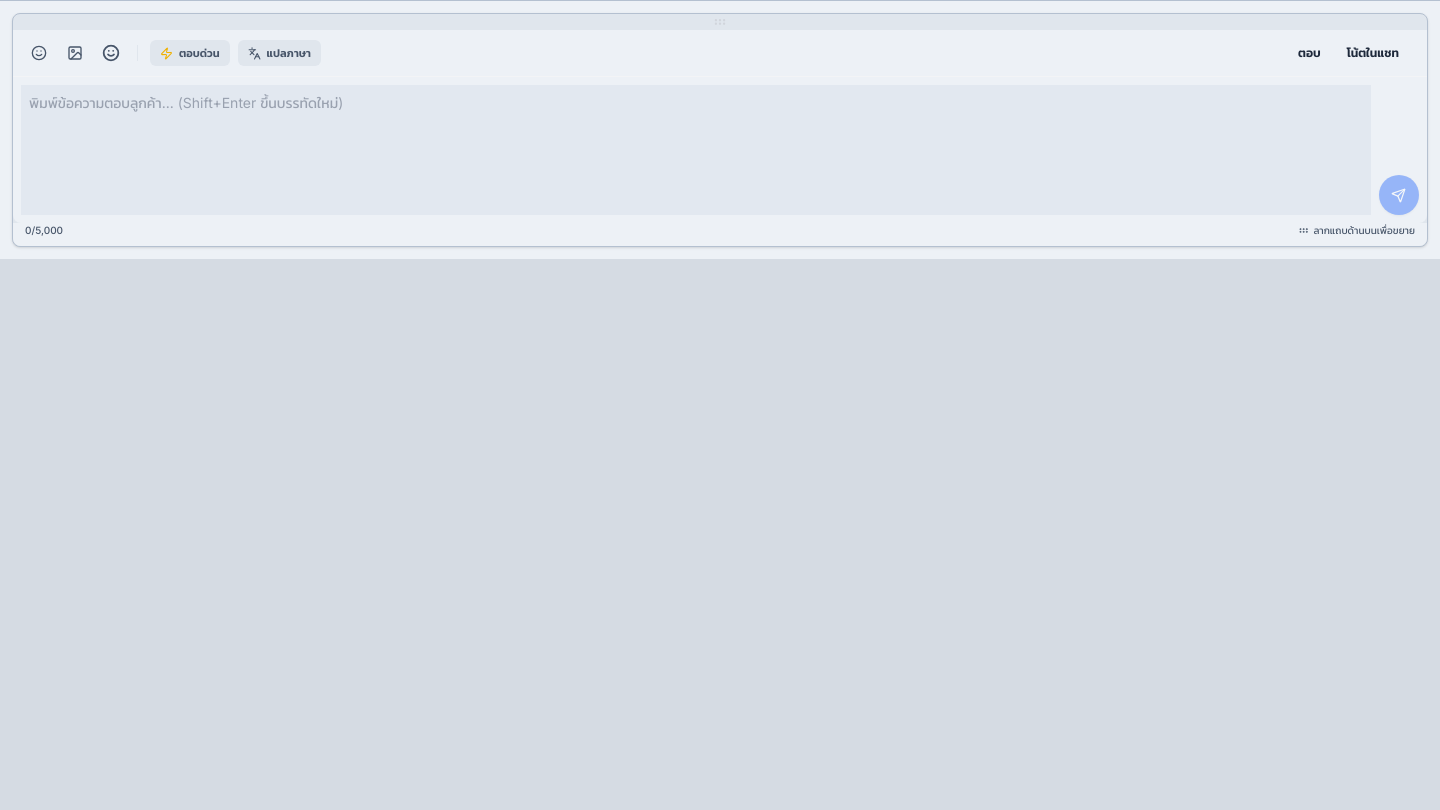
Test: [FEAT-20260918-AUTOSENDCONFIRM] the switch is ON — the first press asks › 🔴 one confirm buys ONE send — the next press asks again
Type "first" into the text box with placeholder "พิมพ์ข้อความตอบลูกค้า... (Shift+Enter ขึ้นบรรทัดใหม่)". click: (696, 150)
box: [21,85,1371,215]
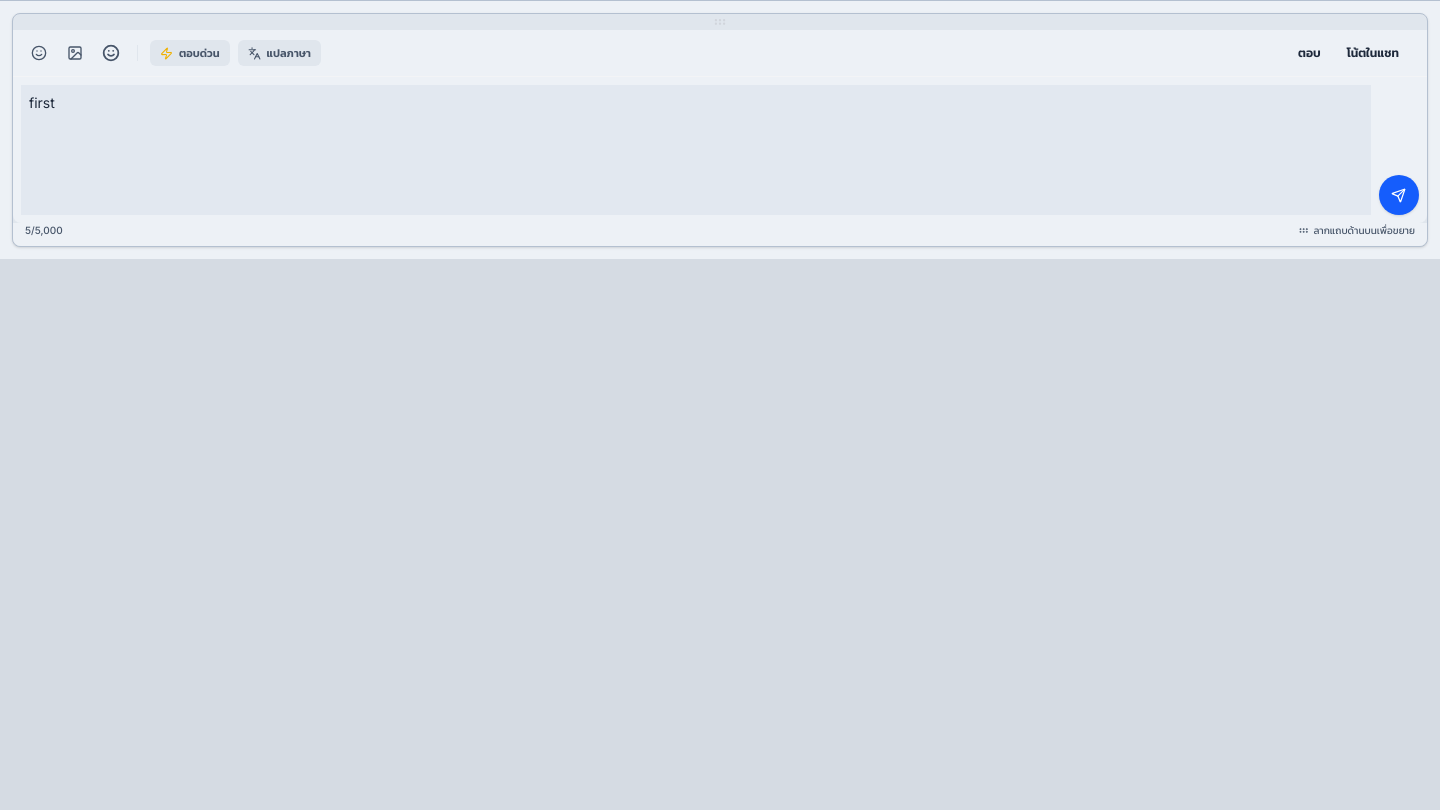
Click the button titled "ส่งถึงลูกค้า". click: (1399, 195)
box: [1379,175,1419,215]
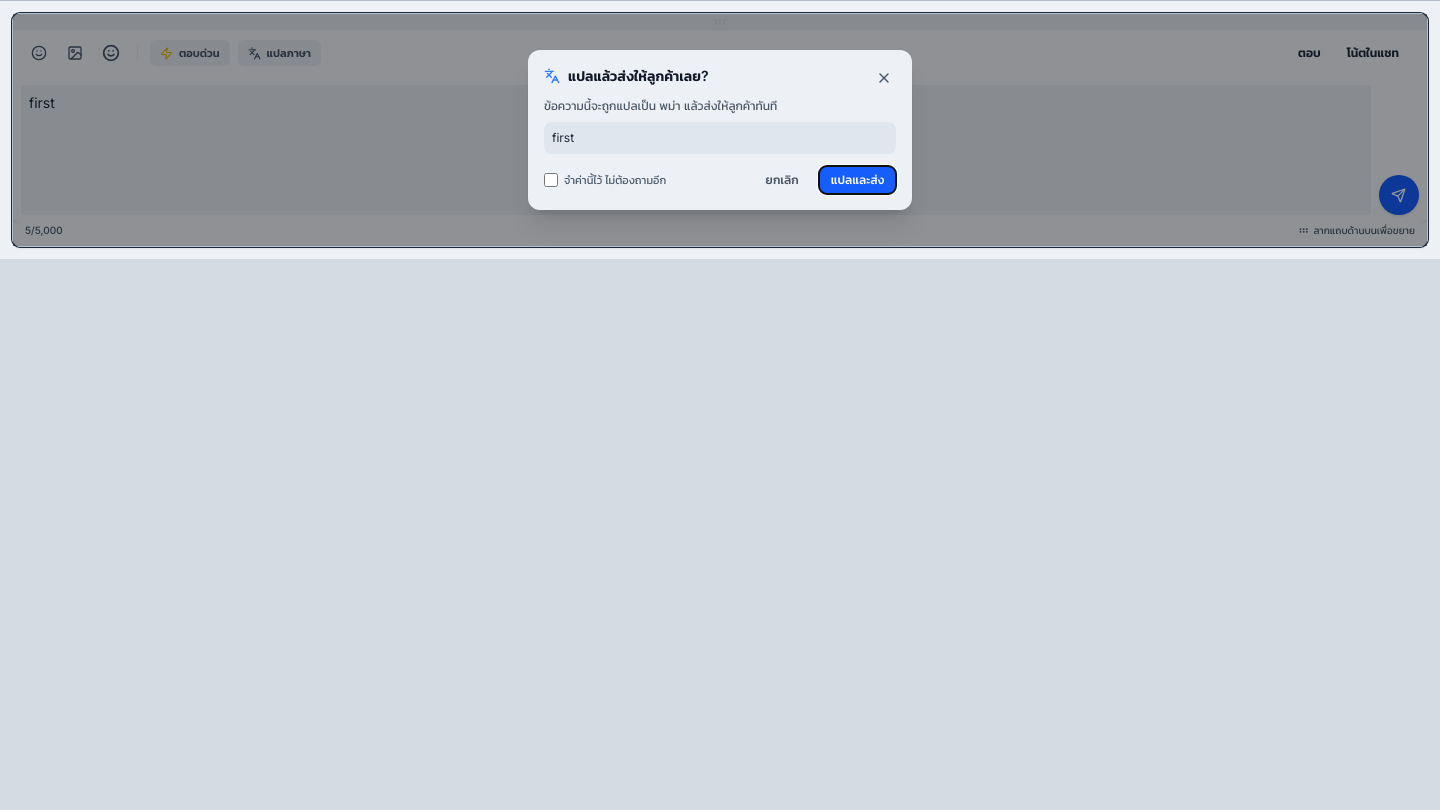
Click the button with test id "auto-send-confirm-ok". click: (857, 180)
box: [819,166,896,194]
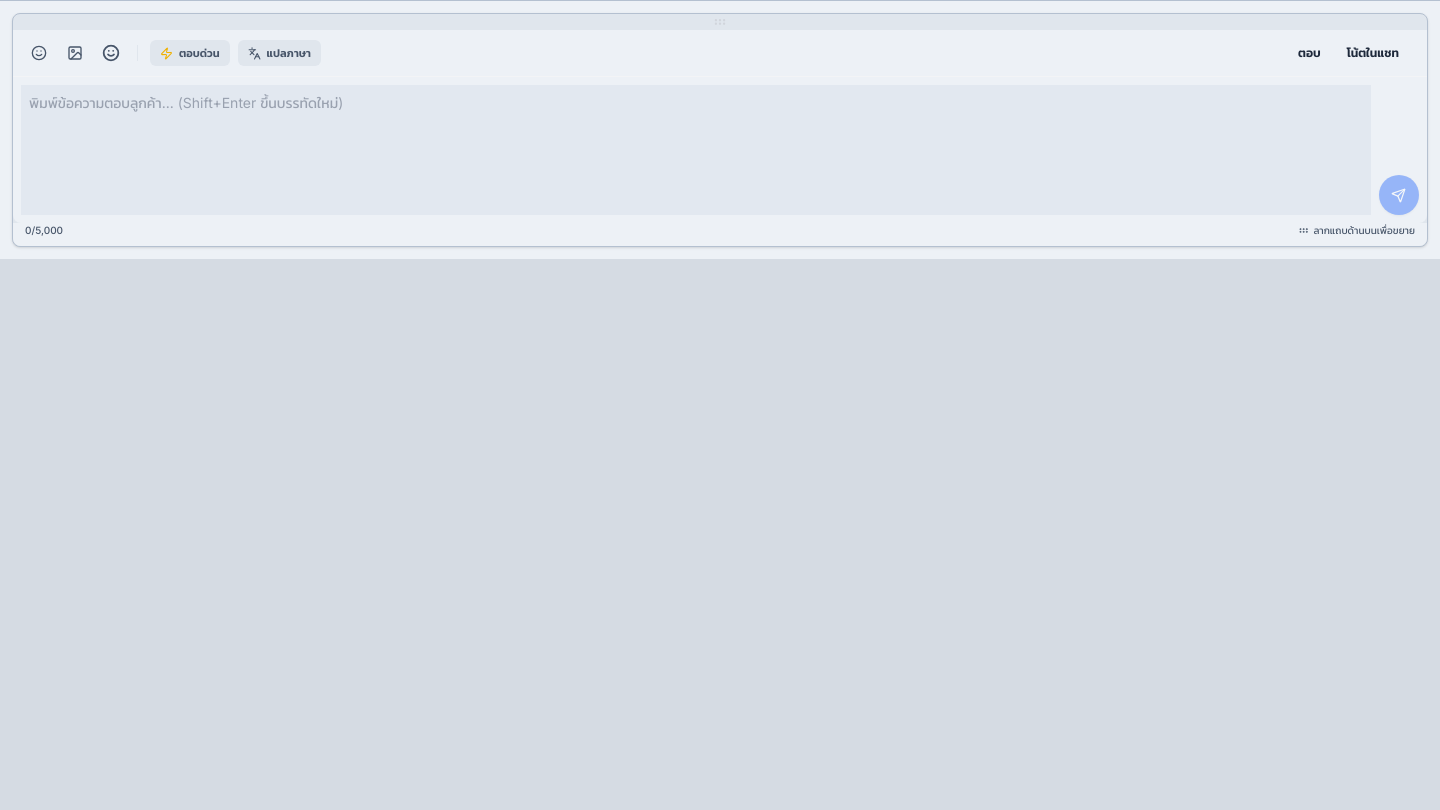
Type "second" into the text box with placeholder "พิมพ์ข้อความตอบลูกค้า... (Shift+Enter ขึ้นบรรทัดใหม่)". click: (696, 150)
box: [21,85,1371,215]
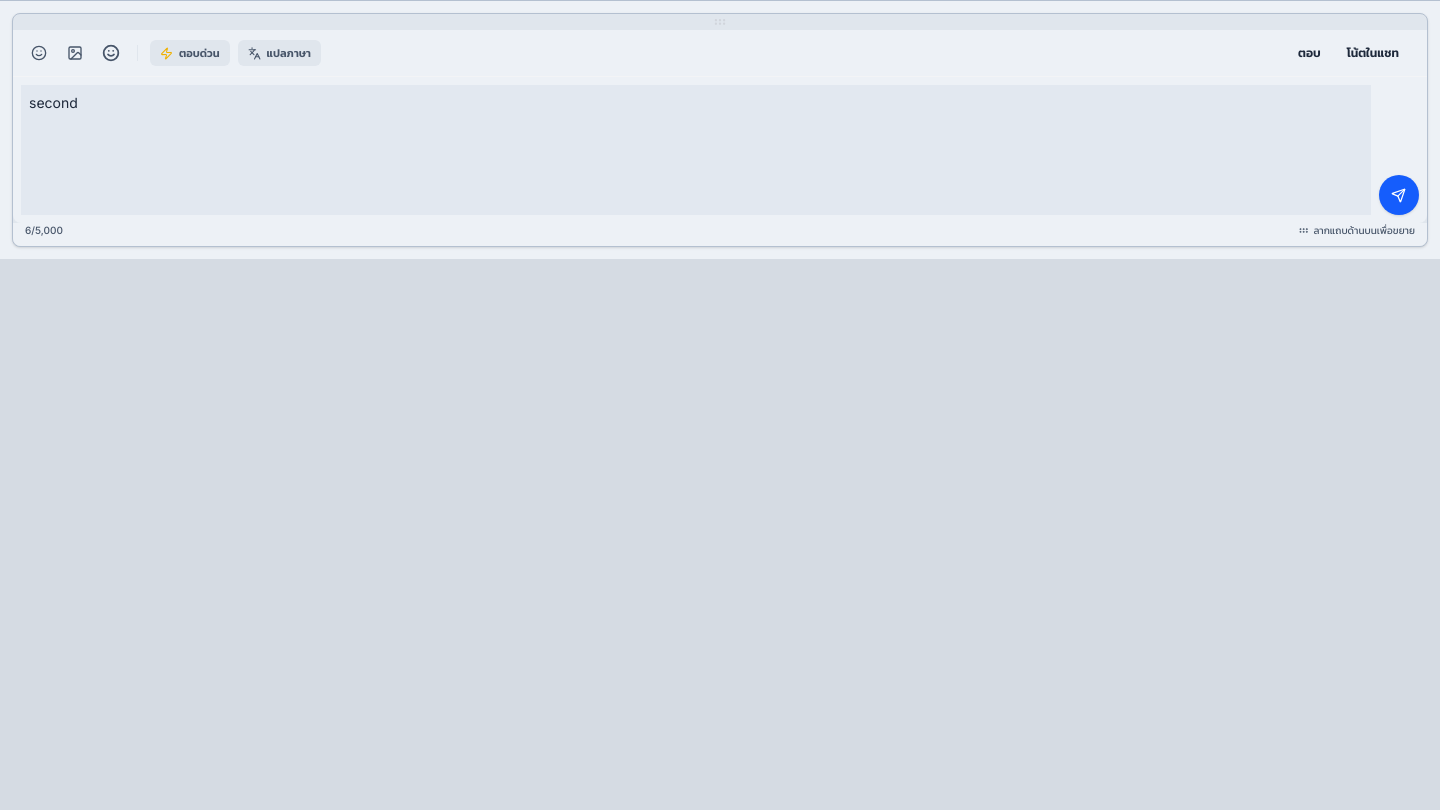
Click the button titled "ส่งถึงลูกค้า". click: (1399, 195)
box: [1379,175,1419,215]
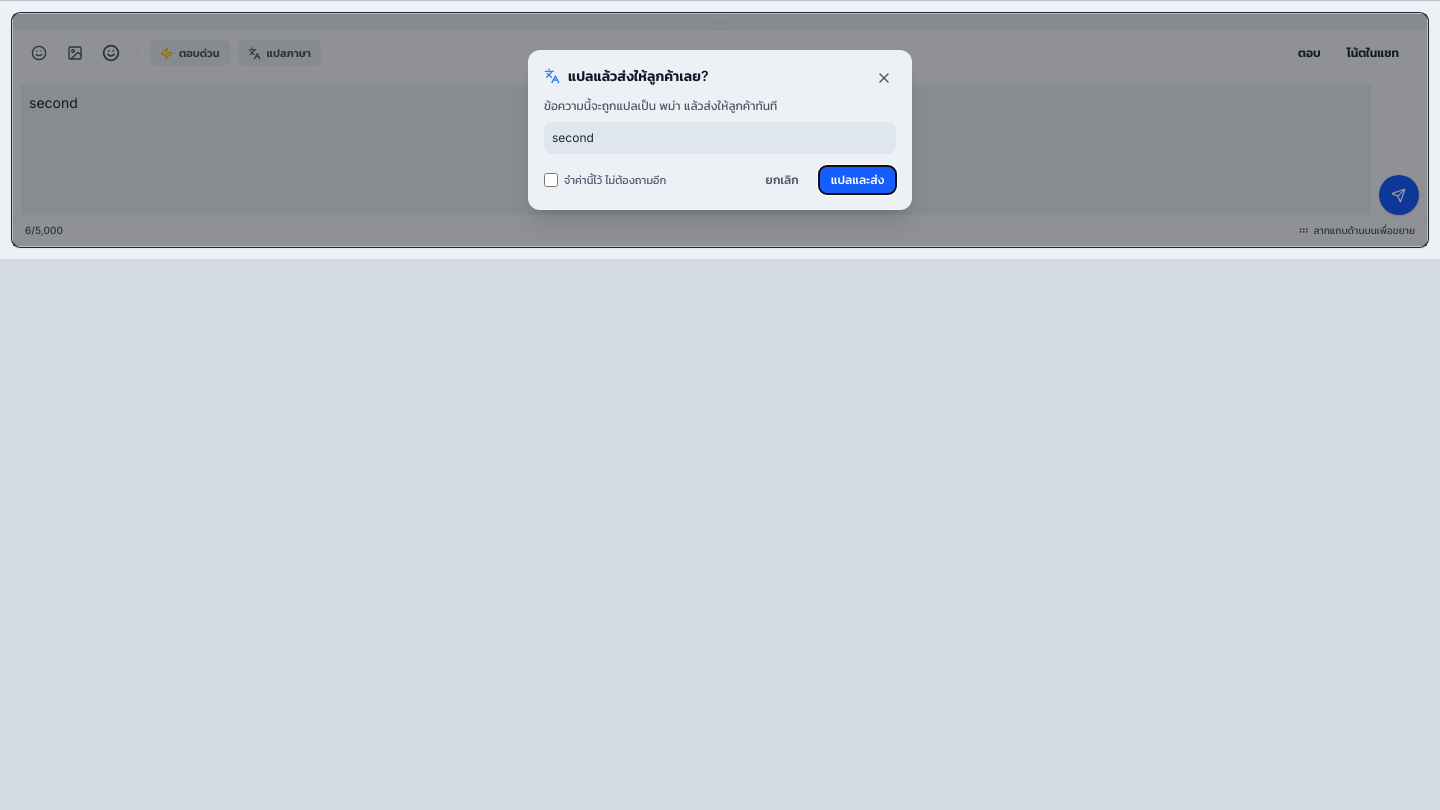
expect the dialog with test id "auto-send-confirm" is shown: met, box [13,14,1427,246]
